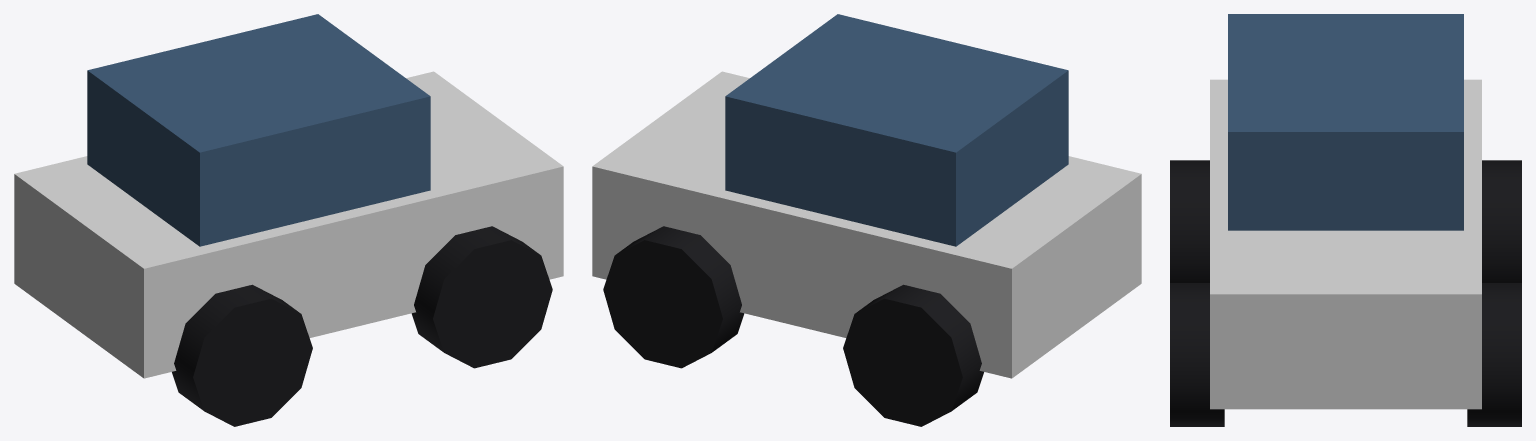
Rendered from car_1995.glb.
3 views of the same model, side by side, from view 1: azimuth 30°, elevation 25°; view 2: azimuth 150°, elevation 25°; view 3: azimuth 270°, elevation 25° (orthographic). The views are drawn at different scales.
Visible parts, largest first — view 1: Body, Cabin, car_w1_1, car_w0_1; view 2: Body, Cabin, car_w1_-1, car_w0_-1; view 3: Body, Cabin, car_w1_-1, car_w1_1, car_w0_-1, car_w0_1.
Boxes of the visible parts, x1,y1,x2,y2 form: Body: [14, 71, 563, 378]; Cabin: [87, 14, 430, 246]; car_w1_1: [411, 226, 552, 368]; car_w0_1: [172, 284, 312, 426]; Body: [592, 71, 1141, 378]; Cabin: [725, 14, 1068, 246]; car_w1_-1: [603, 226, 744, 368]; car_w0_-1: [843, 284, 983, 426]; Body: [1210, 79, 1481, 409]; Cabin: [1228, 14, 1463, 230]; car_w1_-1: [1467, 283, 1521, 426]; car_w1_1: [1170, 283, 1224, 426]; car_w0_-1: [1482, 160, 1521, 282]; car_w0_1: [1170, 160, 1209, 282].
Bounding box in the file's own units: 0.28 × 0.163 × 0.194.
